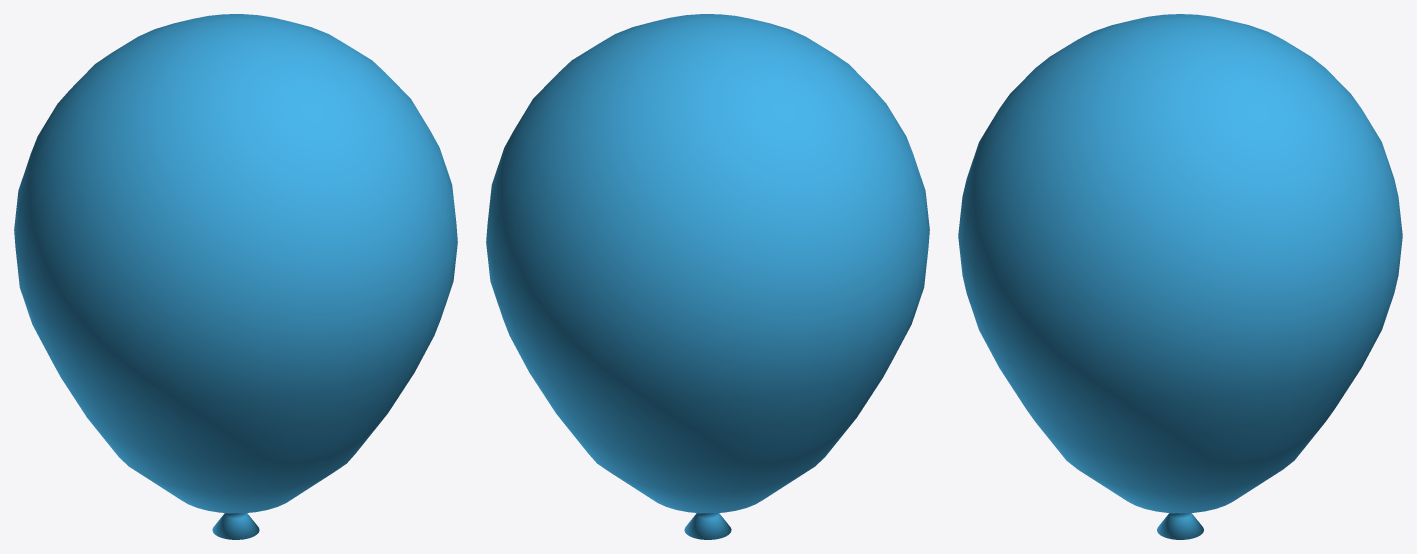
File: Balloon.fbx
3 renders of one model, left to right at view 1: azimuth 30°, elevation 25°; view 2: azimuth 150°, elevation 25°; view 3: azimuth 270°, elevation 25°, orthographic.
Visible parts, largest first — view 1: Sphere; view 2: Sphere; view 3: Sphere.
Boxes of the visible parts, x1,y1,x2,y2 form: Sphere: (14, 14, 457, 539); Sphere: (486, 14, 929, 539); Sphere: (958, 14, 1402, 539).
Size of the model in its own units: 40.42 by 49.69 by 40.42.
